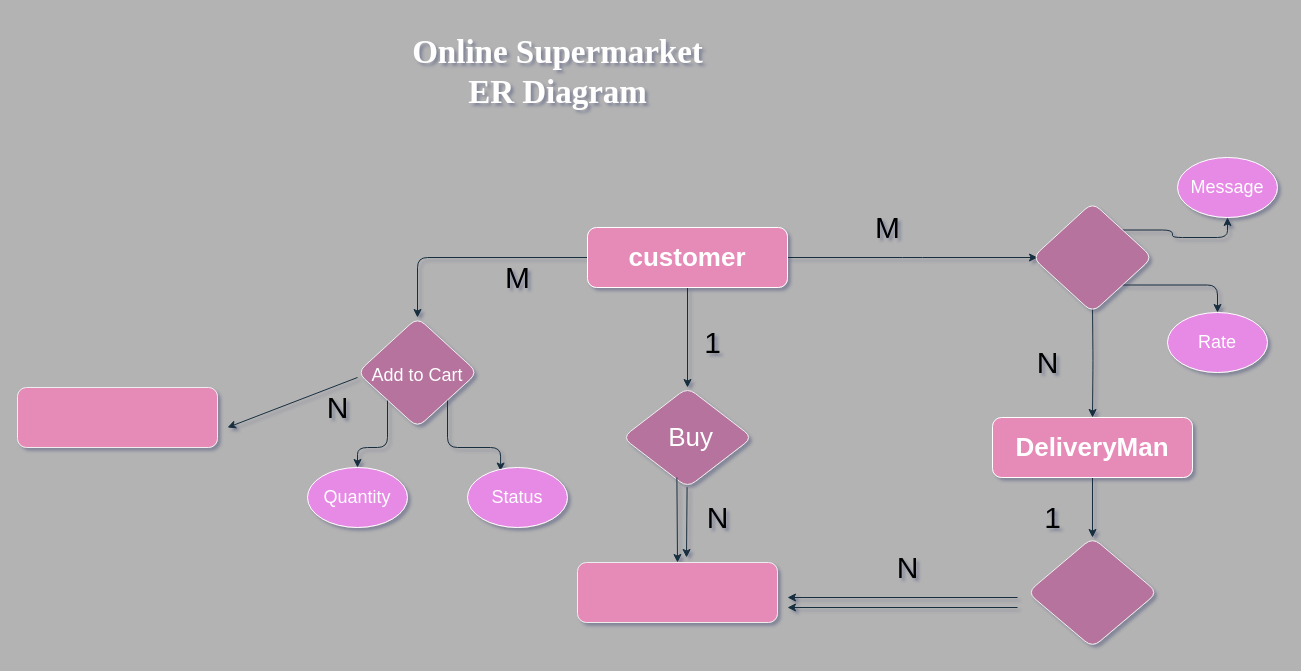
This 1301x671 diagram has some shape labels left out. Each missing label, with the centre of its shape:
"Deliver" goes at (1092,592).
"Feedback" goes at (1092,257).
"Order" goes at (677,592).
"Product" goes at (117,417).
